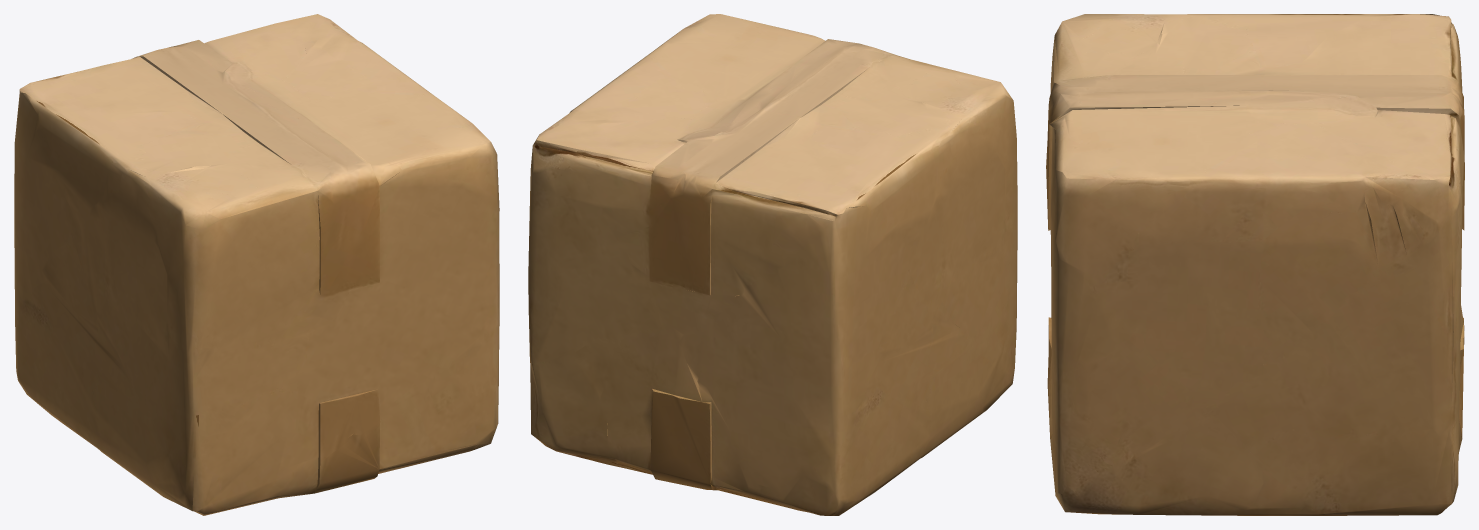
The model's file is caixa.glb.
3 views of the same model, side by side, from view 1: azimuth 30°, elevation 25°; view 2: azimuth 150°, elevation 25°; view 3: azimuth 270°, elevation 25° (orthographic). The views are drawn at different scales.
Parts seen in each view (by area): view 1: caixa; view 2: caixa; view 3: caixa.
Boxes of the visible parts, x1,y1,x2,y2 form: caixa: (14, 14, 499, 515); caixa: (528, 14, 1017, 515); caixa: (1046, 14, 1464, 515).
Size of the model in its own units: 0.4465 by 0.4195 by 0.4533.
1 material, 1 textured.
